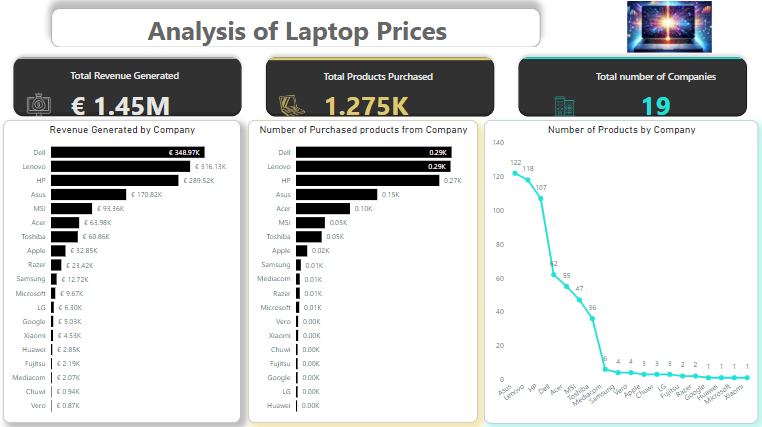

What the dashboard file says about the page in this screenshot:
{"tool":"powerbi","page":{"name":"Analysis of laptop prices","canvas":[1280,720],"ordinal":0},"visuals":[{"type":"textbox","title":"Analysis of Laptop Prices","box":[90.7,15.8,816.5,66.2],"z":0},{"type":"cardVisual","fields":{"Data":["Sum(laptop_price - dataset_cleaned.Price (Euro))","CountNonNull(laptop_price - dataset_cleaned.Price (Euro))","Count(laptop_price - dataset_cleaned.Company)"]},"box":[10.1,82.1,1258.6,133.9],"z":1000},{"type":"clusteredBarChart","title":"Revenue Generated by Company","fields":{"Category":["laptop_price - dataset_cleaned.Company"],"Y":["Sum(laptop_price - dataset_cleaned.Price (Euro))"]},"box":[10.1,203,396,505.4],"z":2000},{"type":"clusteredBarChart","title":"Number of Purchased products from Company","fields":{"Category":["laptop_price - dataset_cleaned.Company"],"Y":["CountNonNull(laptop_price - dataset_cleaned.Price (Euro))"]},"box":[417.6,203,383,505.4],"z":3000},{"type":"lineChart","title":"Number of Products by Company","fields":{"Y":["Count(laptop_price - dataset_cleaned.Product)"],"Category":["laptop_price - dataset_cleaned.Company"]},"box":[811.4,202.9,457.1,505.7],"z":4000},{"type":"image","box":[967.7,0,304,96],"z":5000}]}

Visuals, with their boxes in screenshot pixels (x1, y1, x2, y2), scaled from the page's 1280x720 canvas onto the 762x427 screenshot:
"Analysis of Laptop Prices" textbox: [54, 9, 540, 49]
cardVisual - Sum(laptop_price - dataset_cleaned.Price (Euro)) x CountNonNull(laptop_price - dataset_cleaned.Price (Euro)): [6, 49, 755, 128]
"Revenue Generated by Company" clusteredBarChart: [6, 120, 242, 420]
"Number of Purchased products from Company" clusteredBarChart: [249, 120, 477, 420]
"Number of Products by Company" lineChart: [483, 120, 755, 420]
image: [576, 0, 757, 57]
